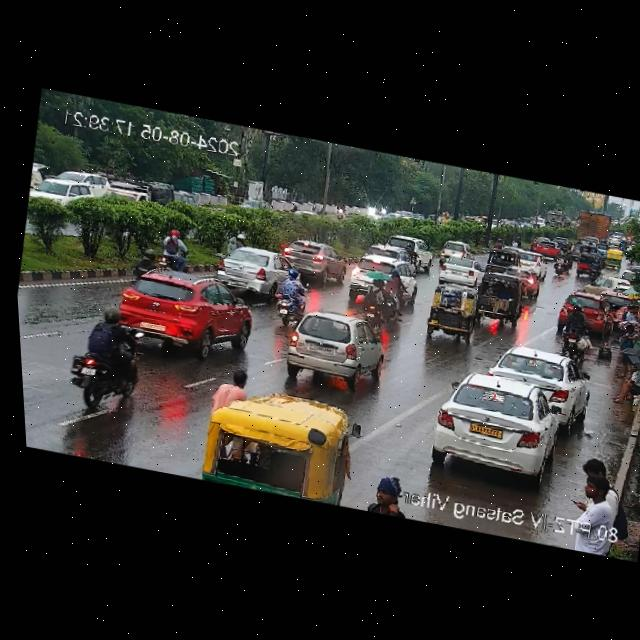car: (197, 376, 368, 508), (102, 257, 267, 364), (422, 364, 569, 483), (277, 304, 395, 396), (489, 341, 591, 416), (209, 240, 311, 301), (340, 249, 422, 313), (420, 279, 483, 346), (277, 234, 350, 285), (476, 270, 528, 329), (558, 289, 618, 332), (50, 162, 112, 203), (375, 231, 432, 270), (357, 242, 418, 273), (435, 254, 484, 290), (583, 272, 637, 301), (432, 237, 475, 273), (482, 247, 518, 274), (512, 248, 544, 270), (574, 253, 602, 278), (531, 239, 560, 258), (599, 246, 622, 269)
motorcycle: (58, 297, 151, 397), (550, 301, 596, 366), (353, 264, 397, 331), (265, 265, 312, 323), (150, 226, 196, 273), (552, 251, 572, 274), (510, 236, 525, 248)
person: (560, 454, 638, 527), (610, 318, 640, 380), (605, 358, 640, 410)
truck: (570, 209, 619, 248)
